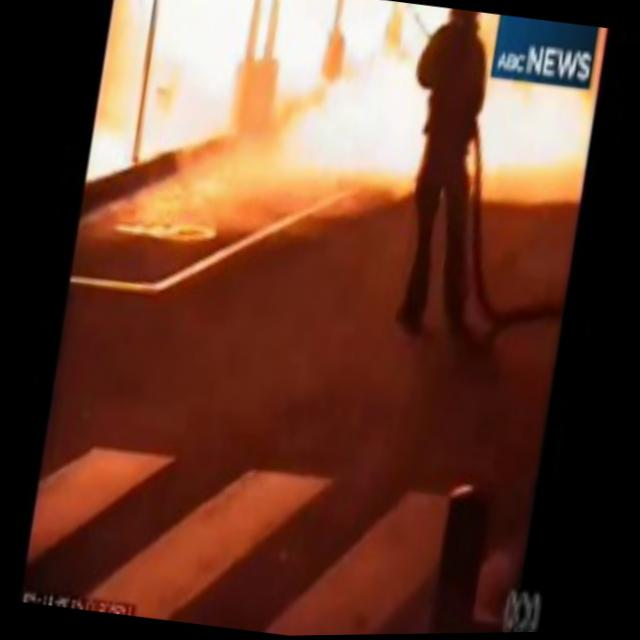fire: (101, 0, 299, 126), (283, 49, 414, 171), (487, 81, 591, 188), (293, 0, 429, 66)
